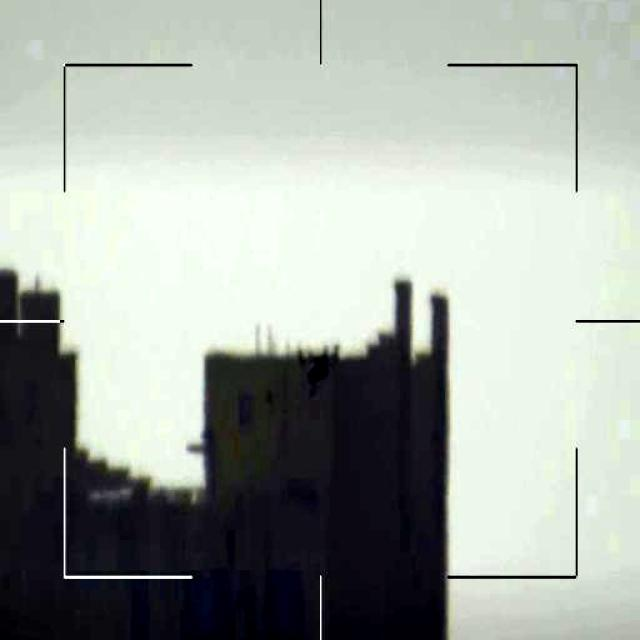bird: (285, 335, 339, 400)
